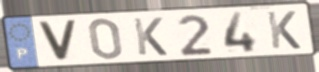0: (86, 17, 125, 61)
2: (174, 13, 216, 58)
4: (221, 10, 262, 55)
K: (131, 16, 170, 57), (265, 10, 303, 50)
V: (35, 19, 80, 63)
